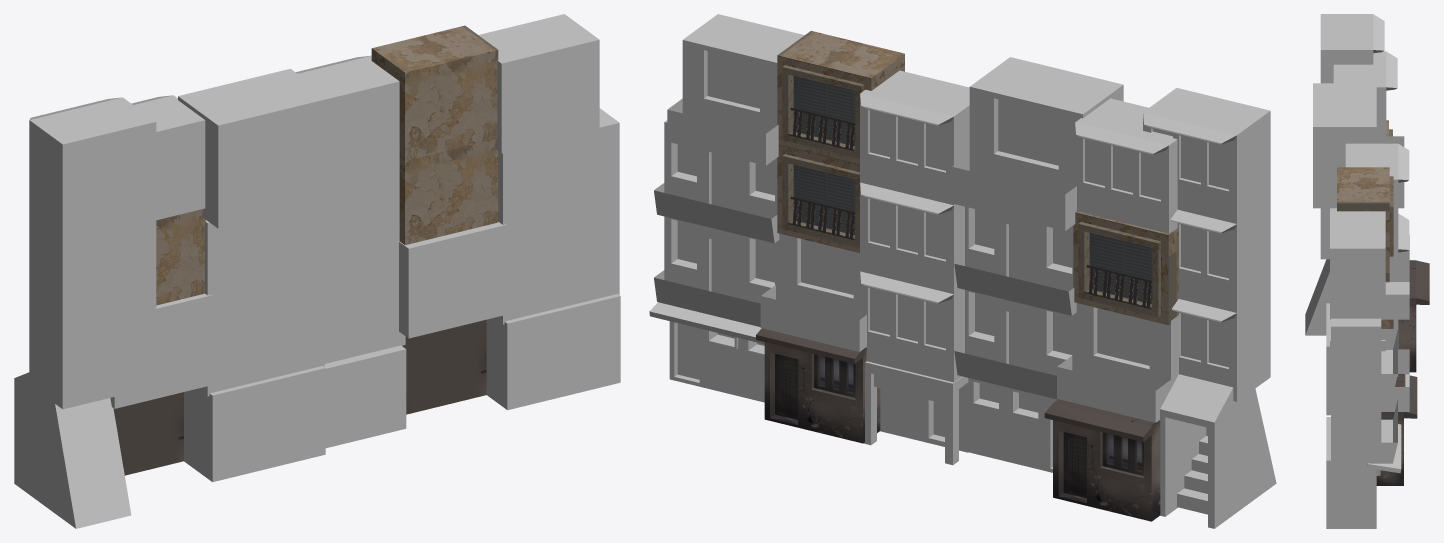
Rendered from StreetSide1.fbx.
The picture shows the model from 3 angles, left to right: view 1: azimuth 30°, elevation 25°; view 2: azimuth 150°, elevation 25°; view 3: azimuth 270°, elevation 25°; orthographic projection. The views are drawn at different scales.
Visible parts, largest first — view 1: House8.002, House8, House6, House2, House2.001, Cube.003, Cube.001, House7, Cube.012, House1, House4, House5 (+5 smaller); view 2: House8, House8.002, House2, Cube.003, House6, House2.001, Cube.012, Cube.001, House8.001, Cube.002, Cube.004, Cube.013 (+5 smaller); view 3: House2, Cube.012, Cube.003, House1, House8.002, House6, House8, House8.001, Cube.002, Cube.001, House3, House4 (+1 smaller).
Part boxes in pixels (x1=…): House8.002: x1=29, y1=97, x2=156, y2=409; House8: x1=296, y1=55, x2=405, y2=363; House6: x1=371, y1=25, x2=498, y2=245; House2: x1=494, y1=108, x2=619, y2=324; House2.001: x1=197, y1=203, x2=324, y2=396; Cube.003: x1=178, y1=68, x2=330, y2=228; Cube.001: x1=14, y1=372, x2=131, y2=528; House7: x1=184, y1=366, x2=325, y2=482; Cube.012: x1=478, y1=14, x2=599, y2=153; House1: x1=486, y1=294, x2=620, y2=410; House4: x1=399, y1=222, x2=506, y2=338; House5: x1=324, y1=345, x2=406, y2=448; House8: x1=860, y1=70, x2=969, y2=382; House8.002: x1=1143, y1=88, x2=1270, y2=401; House2: x1=654, y1=120, x2=779, y2=326; Cube.003: x1=952, y1=57, x2=1123, y2=230; House6: x1=777, y1=31, x2=904, y2=252; House2.001: x1=954, y1=206, x2=1076, y2=399; Cube.012: x1=667, y1=14, x2=804, y2=165; Cube.001: x1=1159, y1=374, x2=1276, y2=528; House8.001: x1=1075, y1=98, x2=1177, y2=233; Cube.002: x1=1044, y1=399, x2=1160, y2=521; Cube.004: x1=1057, y1=303, x2=1178, y2=422; Cube.013: x1=1073, y1=211, x2=1178, y2=325; House2: x1=1331, y1=318, x2=1397, y2=463; Cube.012: x1=1330, y1=210, x2=1409, y2=319; Cube.003: x1=1313, y1=83, x2=1404, y2=208; House1: x1=1326, y1=417, x2=1401, y2=528; House8.002: x1=1320, y1=14, x2=1384, y2=259; House6: x1=1337, y1=167, x2=1393, y2=328; House8: x1=1345, y1=143, x2=1409, y2=376; House8.001: x1=1333, y1=51, x2=1397, y2=143; Cube.002: x1=1398, y1=260, x2=1429, y2=372; Cube.001: x1=1305, y1=252, x2=1402, y2=335; House3: x1=1376, y1=374, x2=1417, y2=485; House4: x1=1330, y1=319, x2=1409, y2=411.
Bounding box in the file's own units: 6016 × 3857 × 1448.
